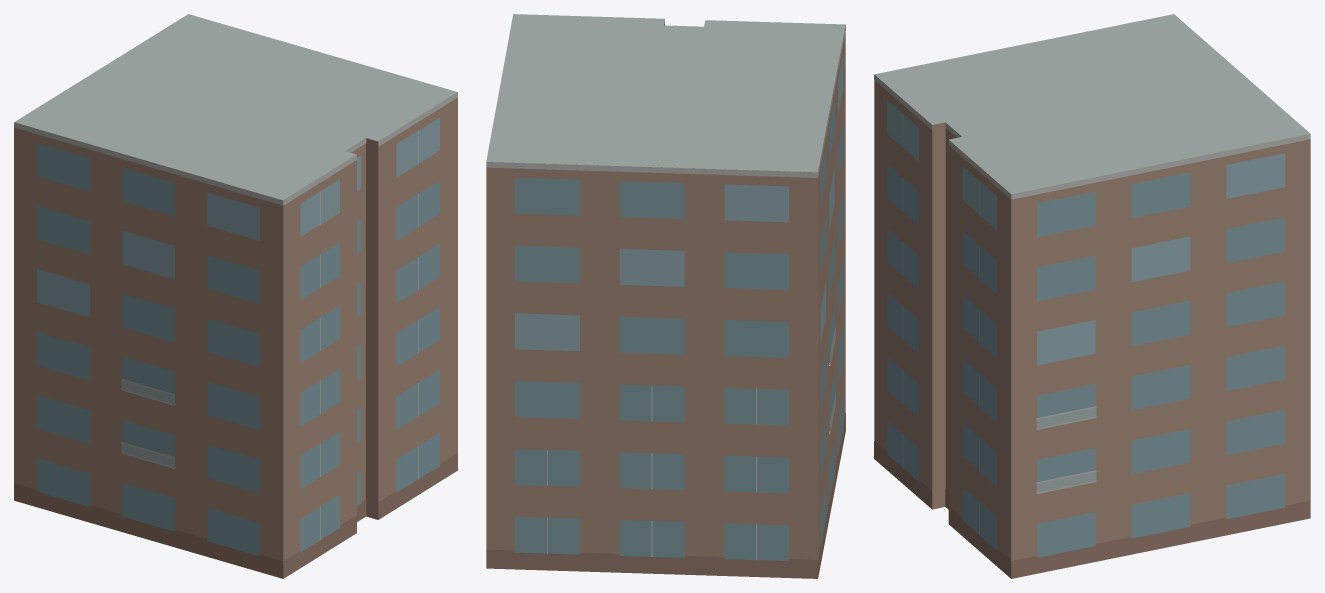
The model's file is survey-upis-32740185.glb.
The picture shows the model from 3 angles, left to right: view 1: azimuth 30°, elevation 25°; view 2: azimuth 150°, elevation 25°; view 3: azimuth 270°, elevation 25°; orthographic projection. The views are drawn at different scales.
Visible parts, largest first — view 1: survey-upis-32740185.tmp; view 2: survey-upis-32740185.tmp; view 3: survey-upis-32740185.tmp.
Part boxes in pixels (box(x1,y1,x2,y2)): survey-upis-32740185.tmp: box(14, 14, 457, 578); survey-upis-32740185.tmp: box(486, 14, 845, 578); survey-upis-32740185.tmp: box(874, 14, 1310, 578).
Bounding box in the file's own units: 17.51 × 17.4 × 17.91.
